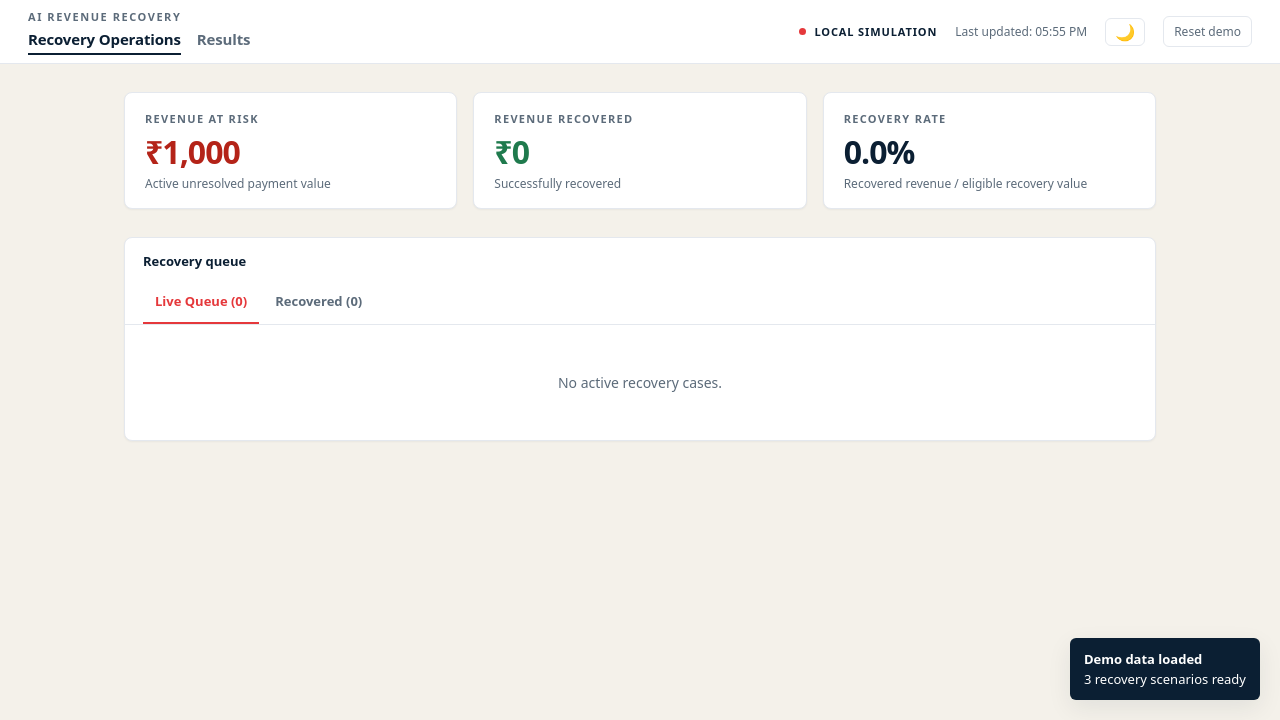
Scenario: App View Switching and Results Page › defaults to Recovery Operations and allows switching to Results
Expected: the heading "Recovery queue" is shown, [143,252,246,270]
// Switch to Results
Click the button "Results" at (224, 42), box [197,28,250,54]
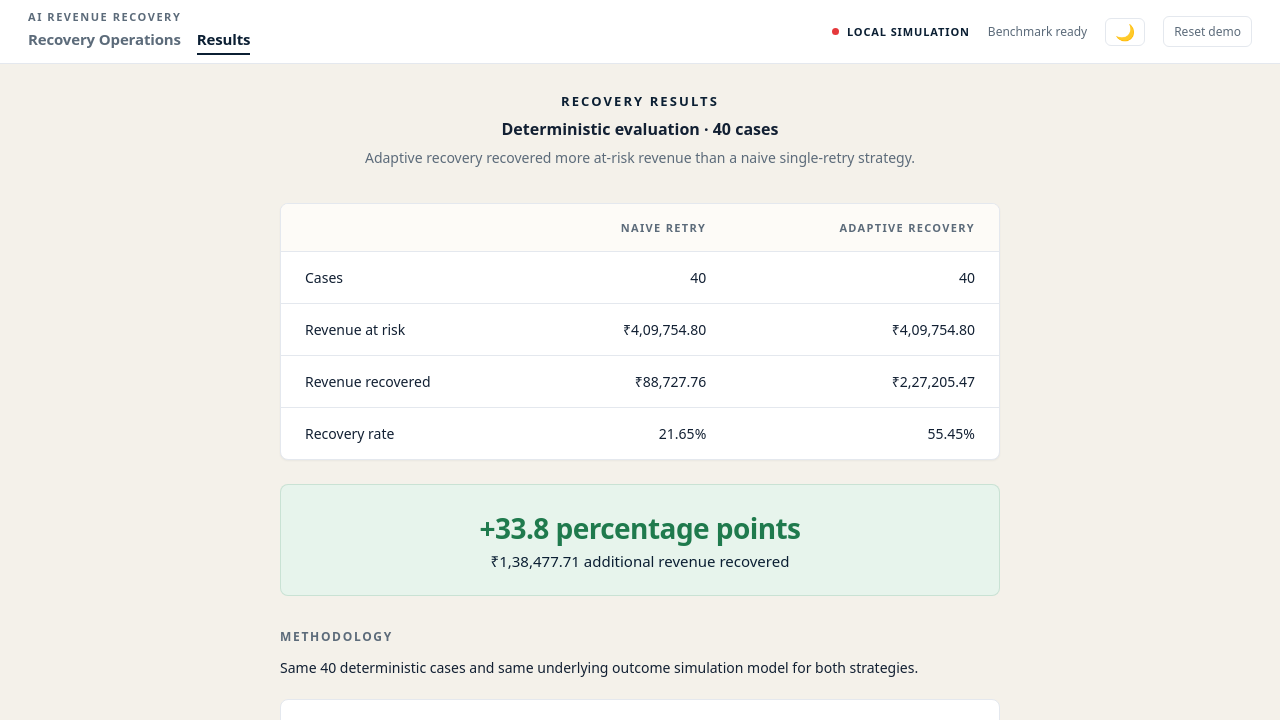
Result: the heading "RECOVERY RESULTS" is shown at [561,92,719,110]
Result: the text "Deterministic evaluation · 40 cases" is shown at [502,118,778,140]
Result: the text "+33.8 percentage points" is shown at [480,509,800,547]
